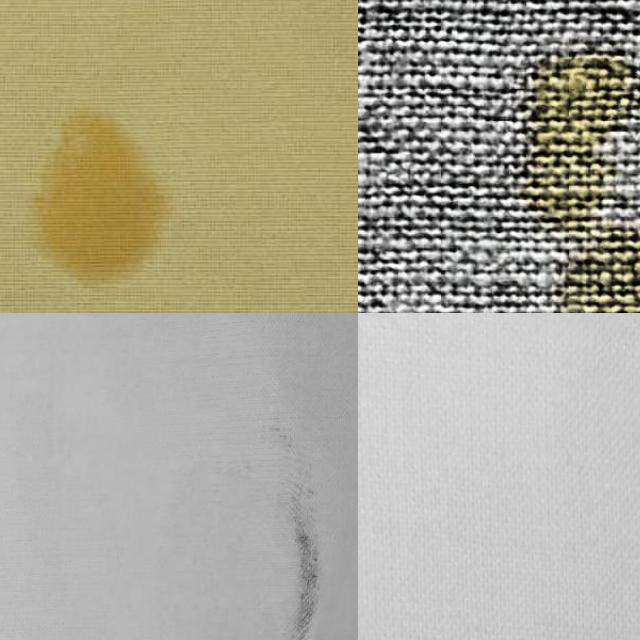Hole: (358, 313, 640, 640), (162, 402, 358, 640), (477, 31, 640, 313), (14, 94, 180, 306)
